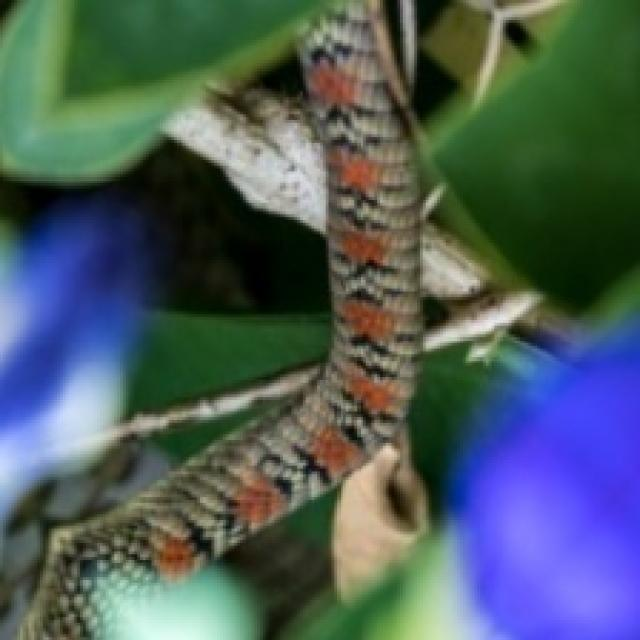paradise tree snake: (17, 0, 420, 637), (17, 3, 420, 637)
